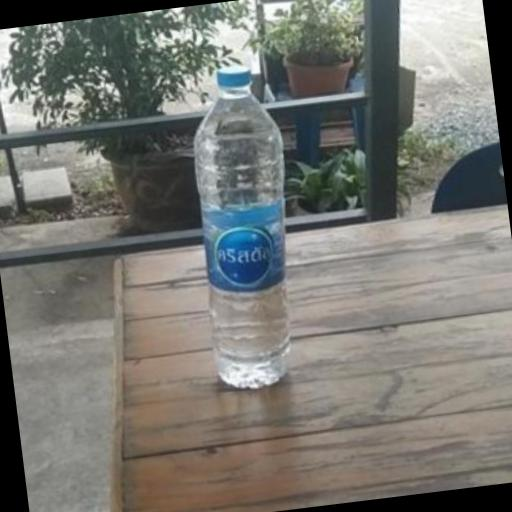Coca: (168, 55, 318, 404)
